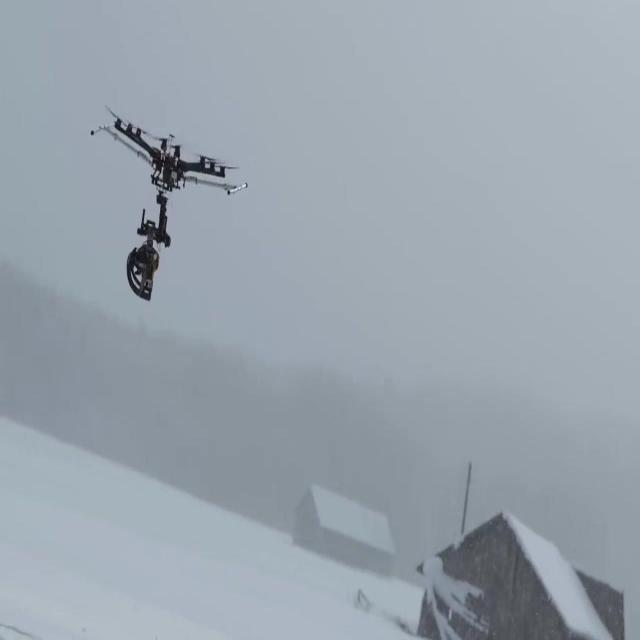UAV: (90, 105, 248, 195)
